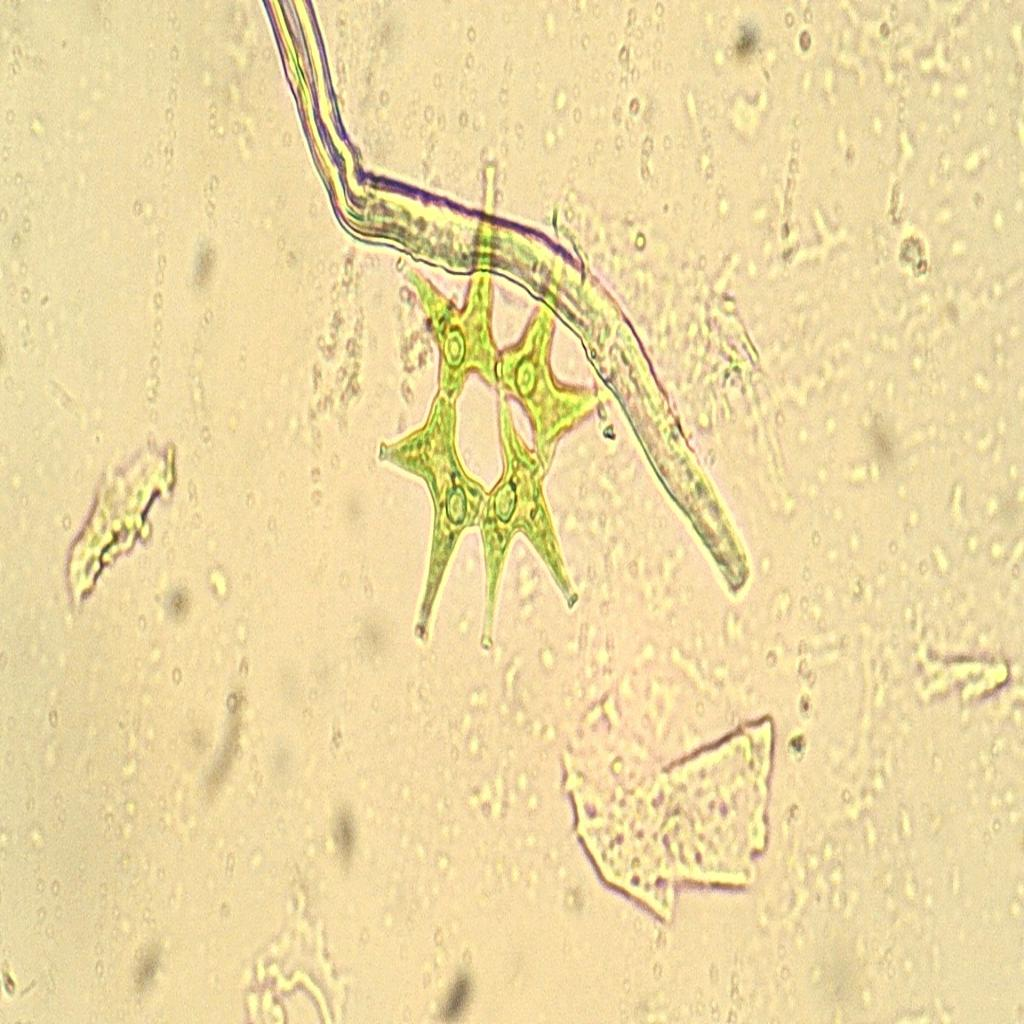Pediastrum_CF: (367, 128, 627, 686)
